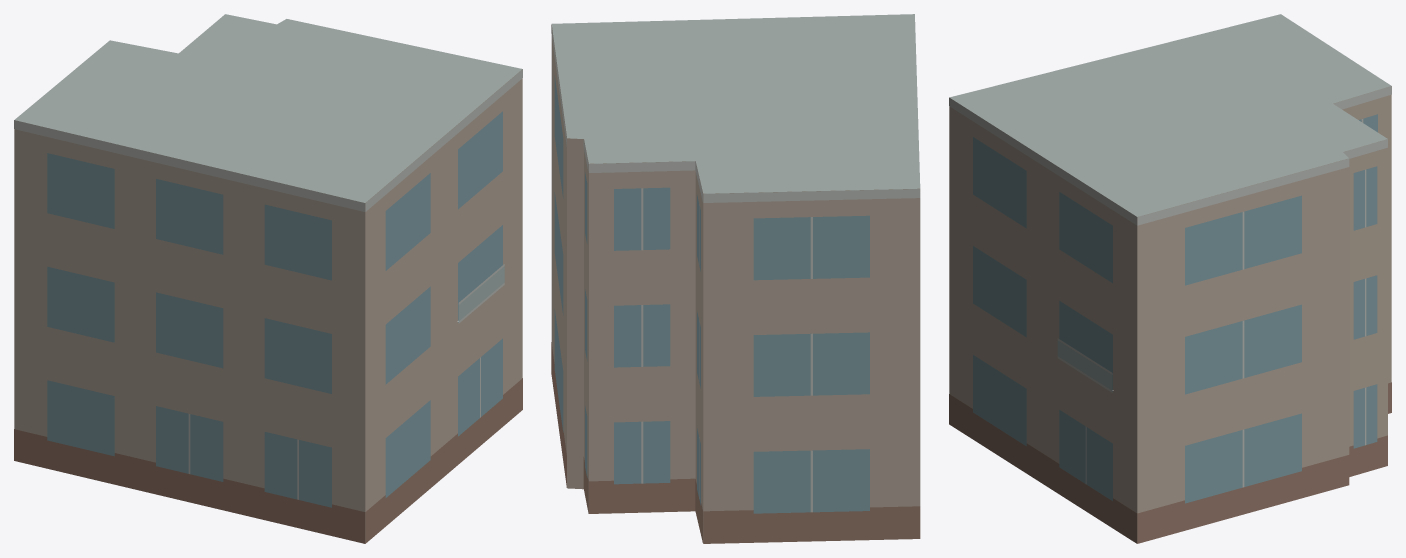
Rendered from survey-upis-32794507.glb.
3 renders of one model, left to right at view 1: azimuth 30°, elevation 25°; view 2: azimuth 150°, elevation 25°; view 3: azimuth 270°, elevation 25°, orthographic. The views are drawn at different scales.
Parts seen in each view (by area): view 1: survey-upis-32794507.tmp; view 2: survey-upis-32794507.tmp; view 3: survey-upis-32794507.tmp.
Boxes of the visible parts, x1,y1,x2,y2 form: survey-upis-32794507.tmp: (14, 14, 522, 543); survey-upis-32794507.tmp: (551, 14, 920, 543); survey-upis-32794507.tmp: (949, 14, 1391, 543).
Size of the model in its own units: 12.2 by 9.15 by 11.24.
